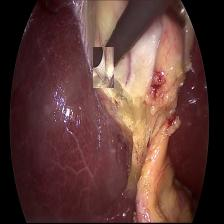Hook: (93, 47, 114, 88)
